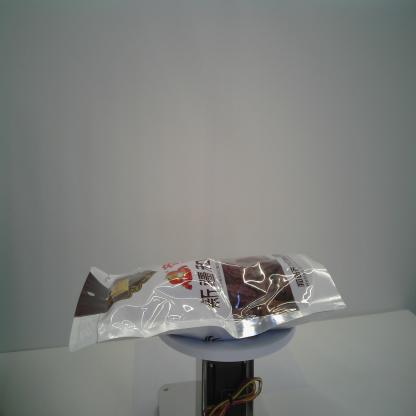Dried Food: (65, 250, 347, 356)
